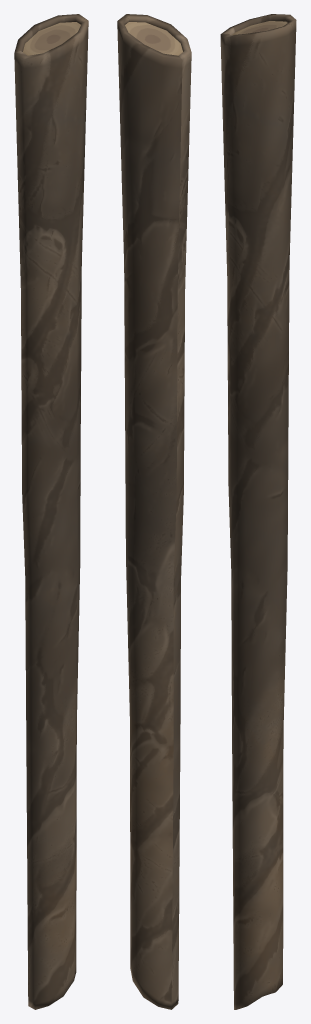
The model's file is stick_long.fbx.
3 views of the same model, side by side, from view 1: azimuth 30°, elevation 25°; view 2: azimuth 150°, elevation 25°; view 3: azimuth 330°, elevation 25° (orthographic). The views are drawn at different scales.
Parts seen in each view (by area): view 1: Cylinder.026; view 2: Cylinder.026; view 3: Cylinder.026.
Part boxes in pixels (x1,y1,x2,y2): Cylinder.026: [14, 14, 88, 1009]; Cylinder.026: [117, 14, 191, 1009]; Cylinder.026: [220, 14, 296, 1009].
Bounding box in the file's own units: 9.81 × 140 × 7.91.
